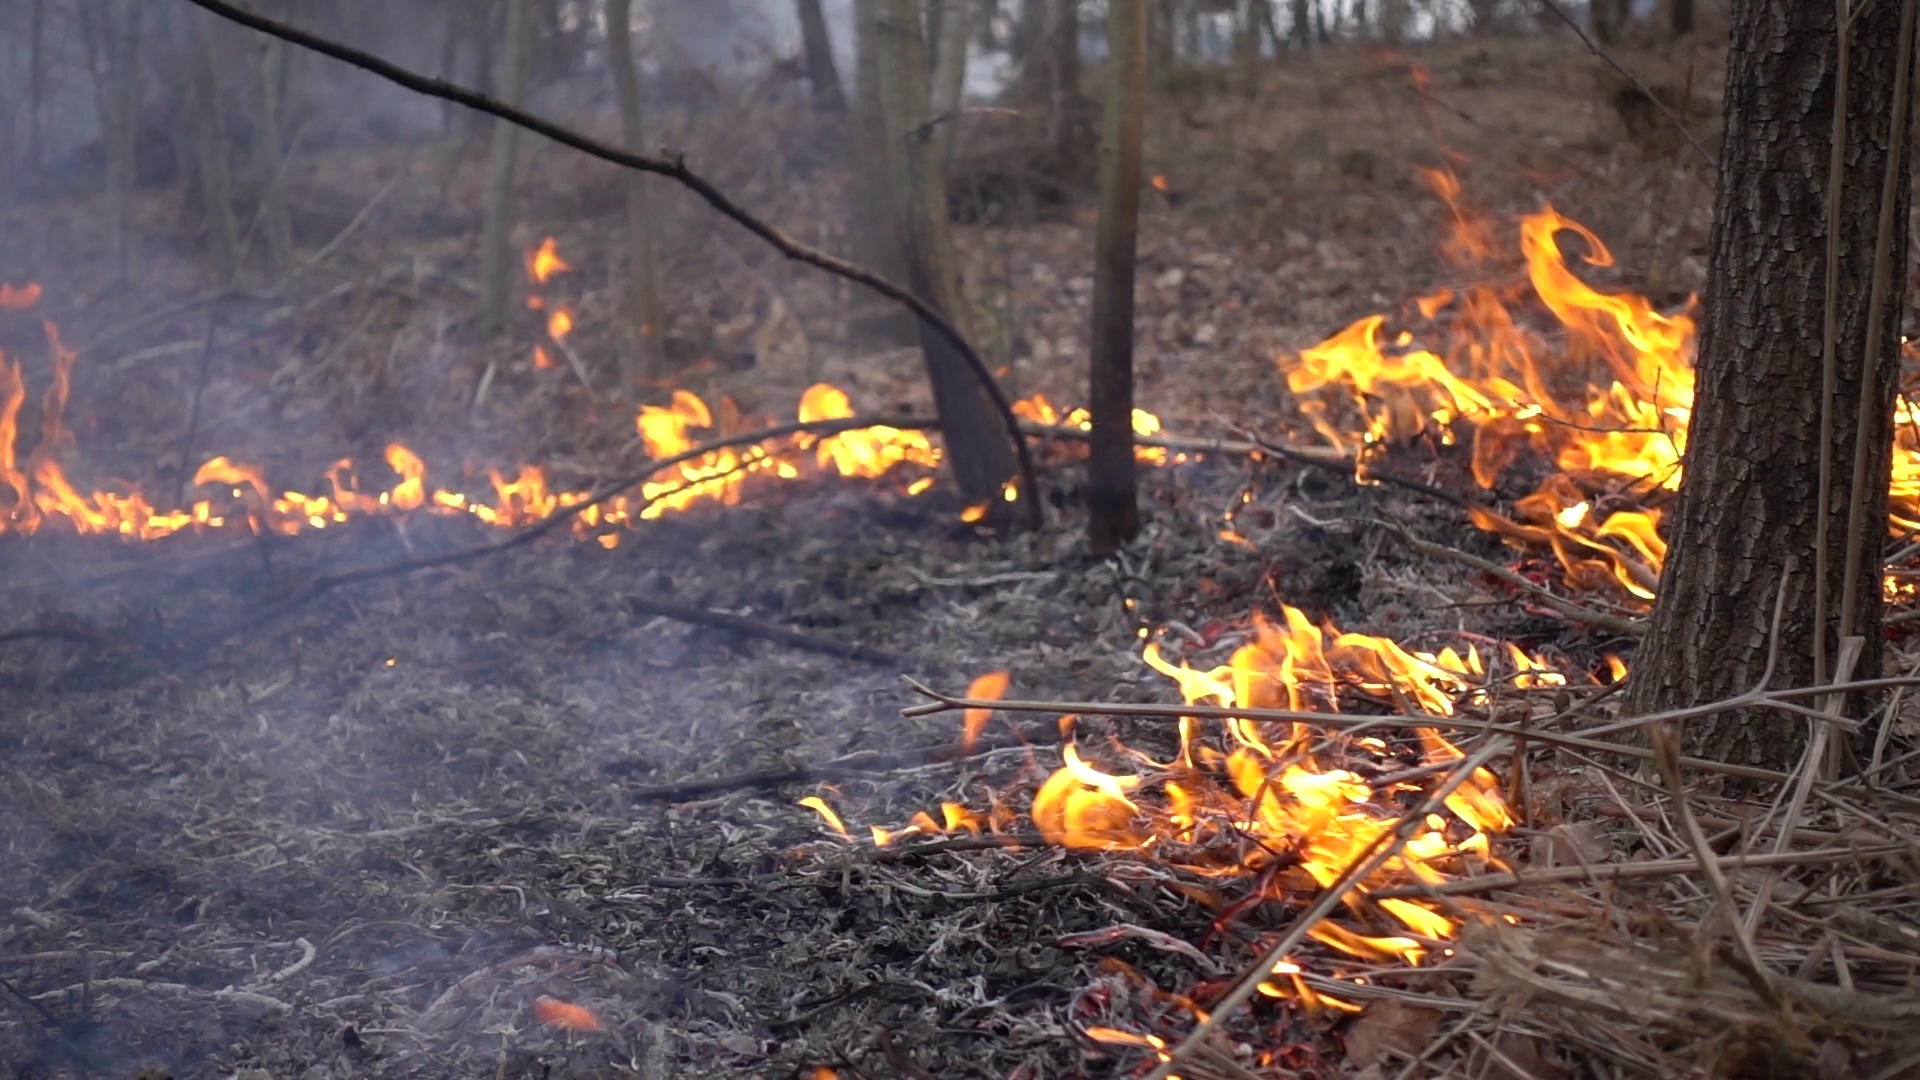fire: (1042, 618, 1561, 973), (1296, 214, 1693, 584), (1, 367, 208, 538), (632, 389, 924, 506), (193, 450, 563, 531), (1890, 398, 1920, 496)
